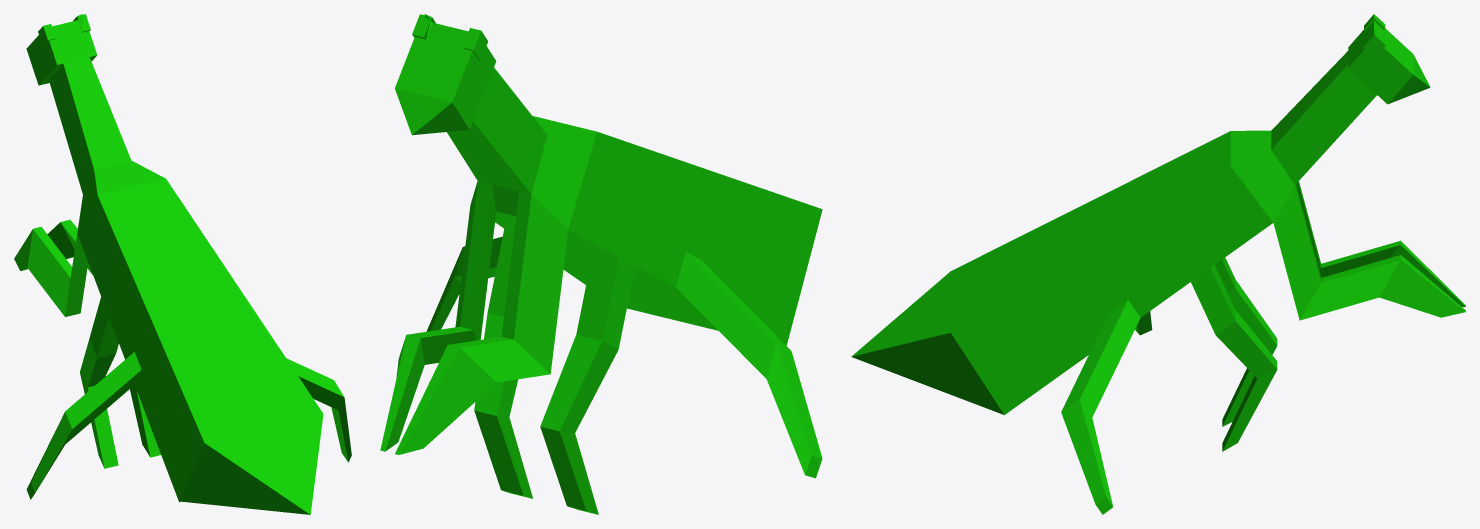
Rendered from mantis.obj.
3 renders of one model, left to right at view 1: azimuth 30°, elevation 25°; view 2: azimuth 150°, elevation 25°; view 3: azimuth 270°, elevation 25°, orthographic. The views are drawn at different scales.
Parts seen in each view (by area): view 1: Cube; view 2: Cube; view 3: Cube.
Boxes of the visible parts, left/top/right/bottom form: Cube: left=14, top=14, right=351, bottom=514; Cube: left=380, top=14, right=822, bottom=514; Cube: left=851, top=14, right=1465, bottom=514.
Bounding box in the file's own units: 2.41 × 2.99 × 4.03.
